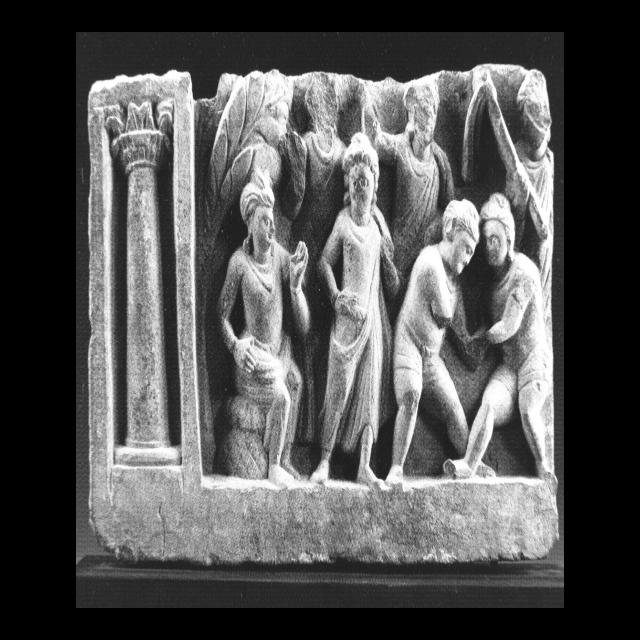buddha-wrestling: (386, 193, 555, 487)
